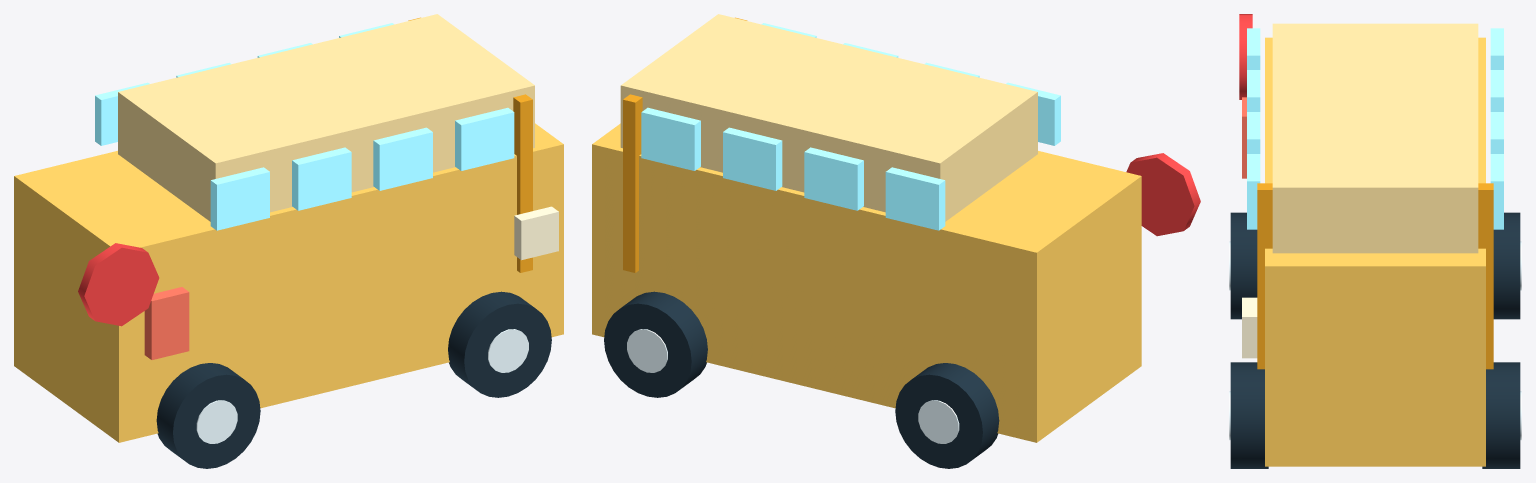
The model's file is bus.glb.
3 views of the same model, side by side, from view 1: azimuth 30°, elevation 25°; view 2: azimuth 150°, elevation 25°; view 3: azimuth 270°, elevation 25° (orthographic). The views are drawn at different scales.
Parts seen in each view (by area): view 1: YellowSchoolBus; view 2: YellowSchoolBus; view 3: YellowSchoolBus.
Boxes of the visible parts, box(x1,y1,x2,y2) form: YellowSchoolBus: box(14, 14, 563, 468); YellowSchoolBus: box(592, 14, 1200, 468); YellowSchoolBus: box(1229, 14, 1521, 468).
Size of the model in its own units: 1.57 by 0.87 by 0.768.
